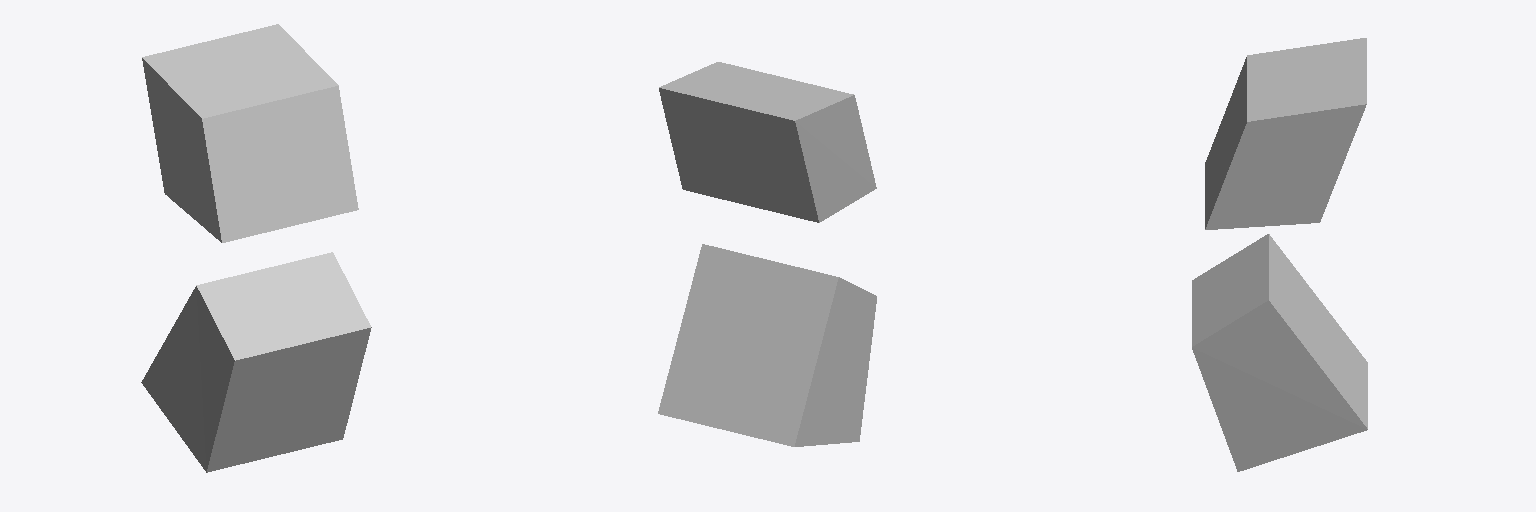
The model's file is dots.obj.
3 renders of one model, left to right at view 1: azimuth 30°, elevation 25°; view 2: azimuth 150°, elevation 25°; view 3: azimuth 270°, elevation 25°, orthographic.
Parts seen in each view (by area): view 1: Cube.001; view 2: Cube.001; view 3: Cube.001.
Boxes of the visible parts, x1=… form: Cube.001: x1=141, y1=24, x2=371, y2=472; Cube.001: x1=658, y1=62, x2=876, y2=446; Cube.001: x1=1192, y1=38, x2=1367, y2=471.
Bounding box in the file's own units: 2.09 × 5.15 × 2.24.